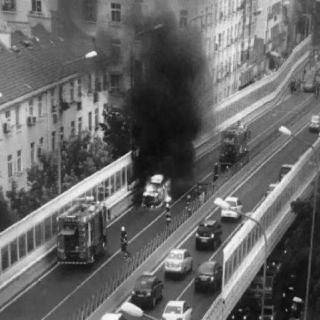Fire: (137, 173, 170, 211)
